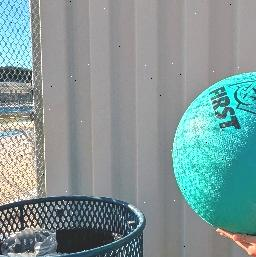algae: (168, 71, 256, 236)
